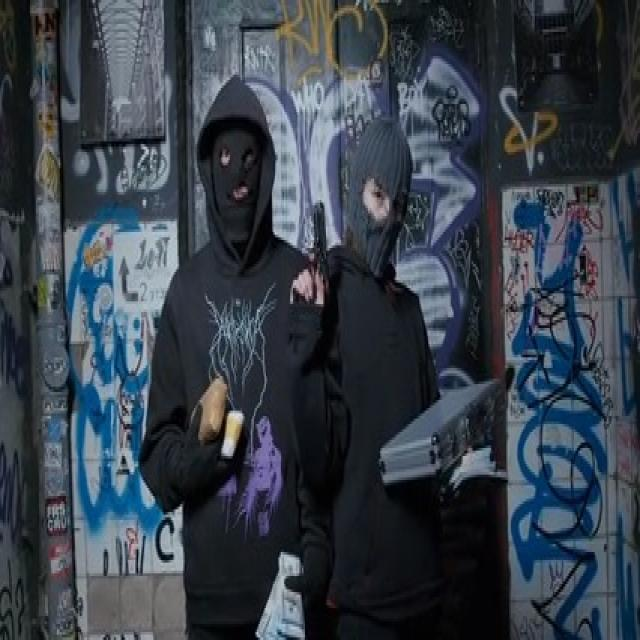Gun_Holder: (285, 198, 346, 334)
Person: (129, 72, 329, 640), (321, 114, 456, 640)
